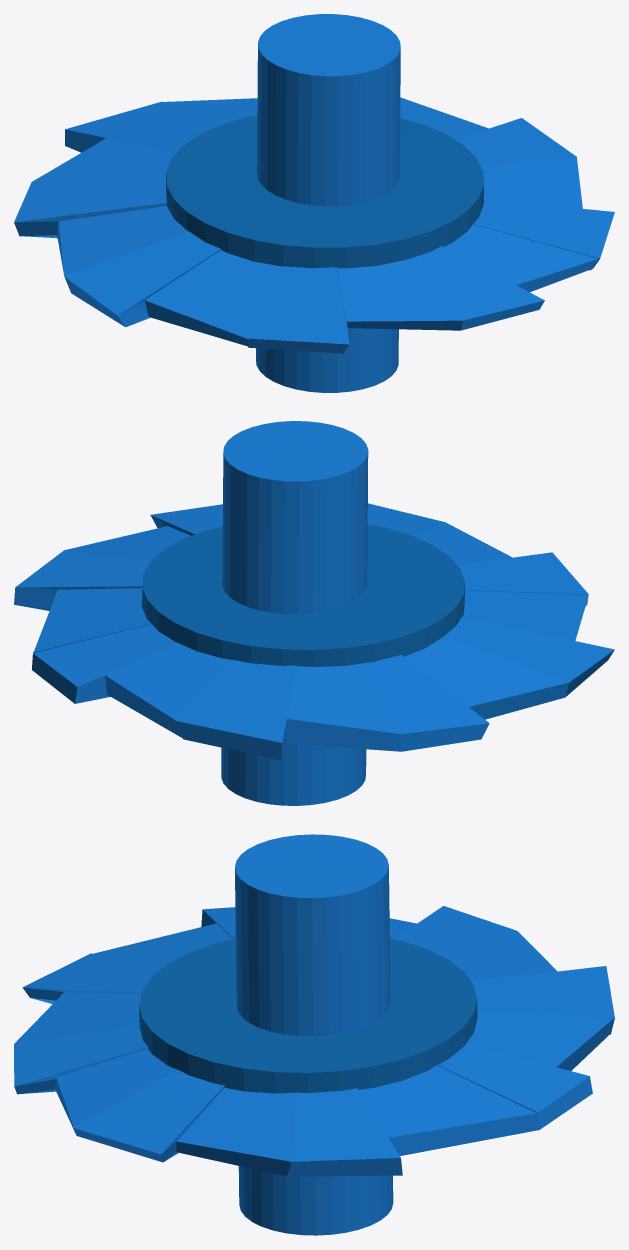
The model's file is çark_engeli.fbx.
3 views of the same model, one above another, from view 1: azimuth 30°, elevation 25°; view 2: azimuth 150°, elevation 25°; view 3: azimuth 270°, elevation 25° (orthographic). The views are drawn at different scales.
Visible parts, largest first — view 1: Circle.001, Cylinder.001, Cylinder; view 2: Circle.001, Cylinder.001, Cylinder; view 3: Circle.001, Cylinder.001, Cylinder.
Boxes of the visible parts, <box> form: Circle.001: <box>14,97,614,353</box>; Cylinder.001: <box>256,14,400,392</box>; Cylinder: <box>166,115,483,268</box>; Circle.001: <box>14,503,614,760</box>; Cylinder.001: <box>221,421,368,805</box>; Cylinder: <box>142,524,464,666</box>; Circle.001: <box>14,906,614,1176</box>; Cylinder.001: <box>235,834,393,1235</box>; Cylinder: <box>139,938,477,1093</box>.
Size of the model in its own units: 1466 by 887 by 1424.
